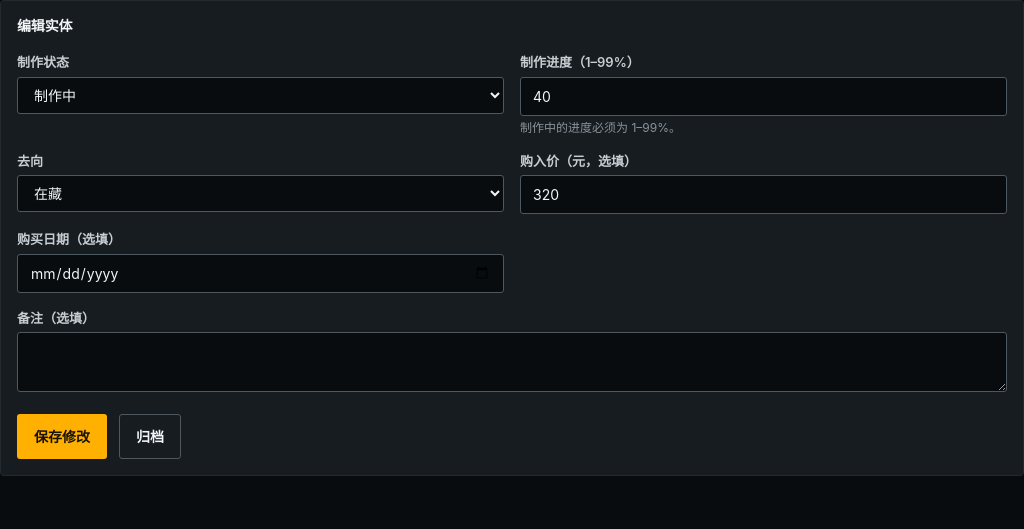
Scenario: AssetEditForm 组件 › 制作中输入越界进度时客户端拦截并提示
Replace the text in the number field labelled "制作进度（1–99%）" with "0" at (764, 96), box [520,76,1007,116]
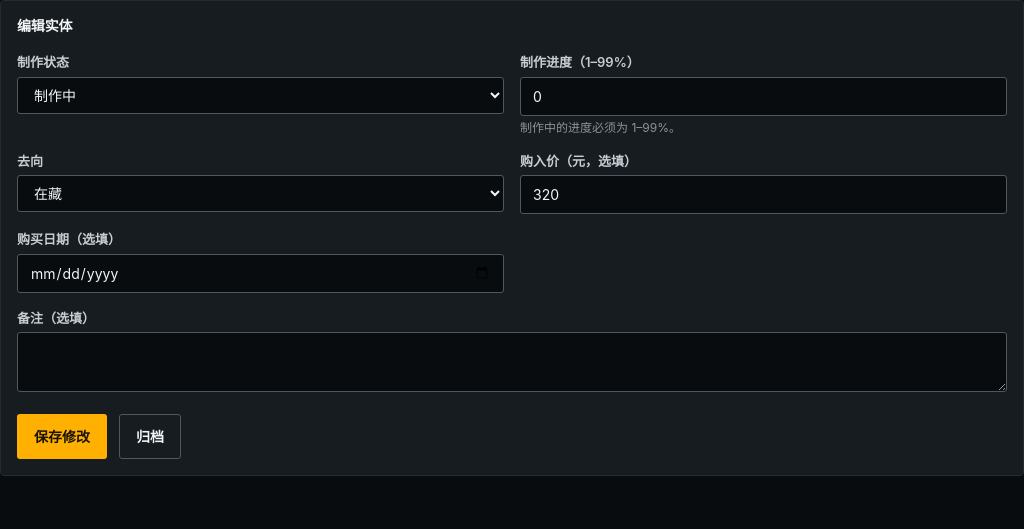
Click the button with test id "asset-save" at (62, 436), box [17,414,107,459]
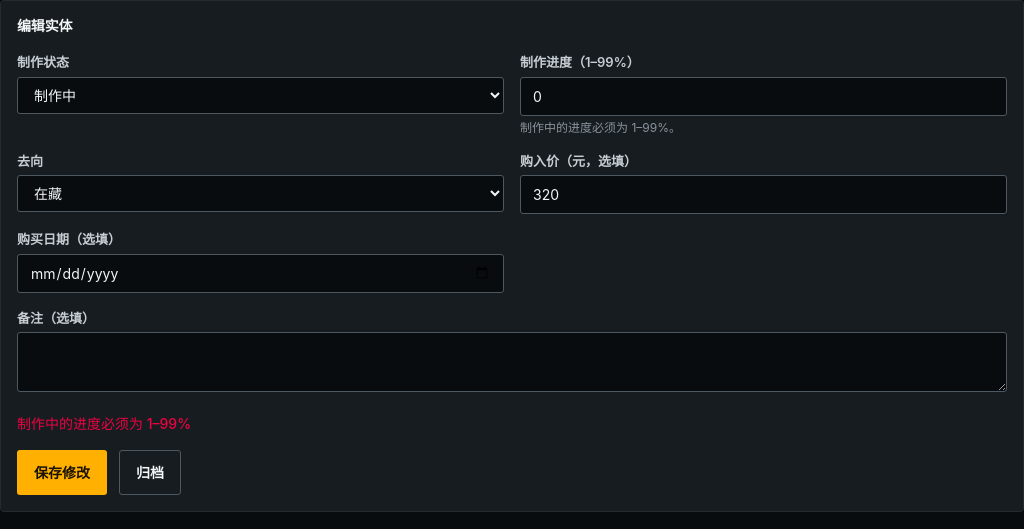
Now the message with test id "edit-error" shows "1–99", box [17,415,191,432]
